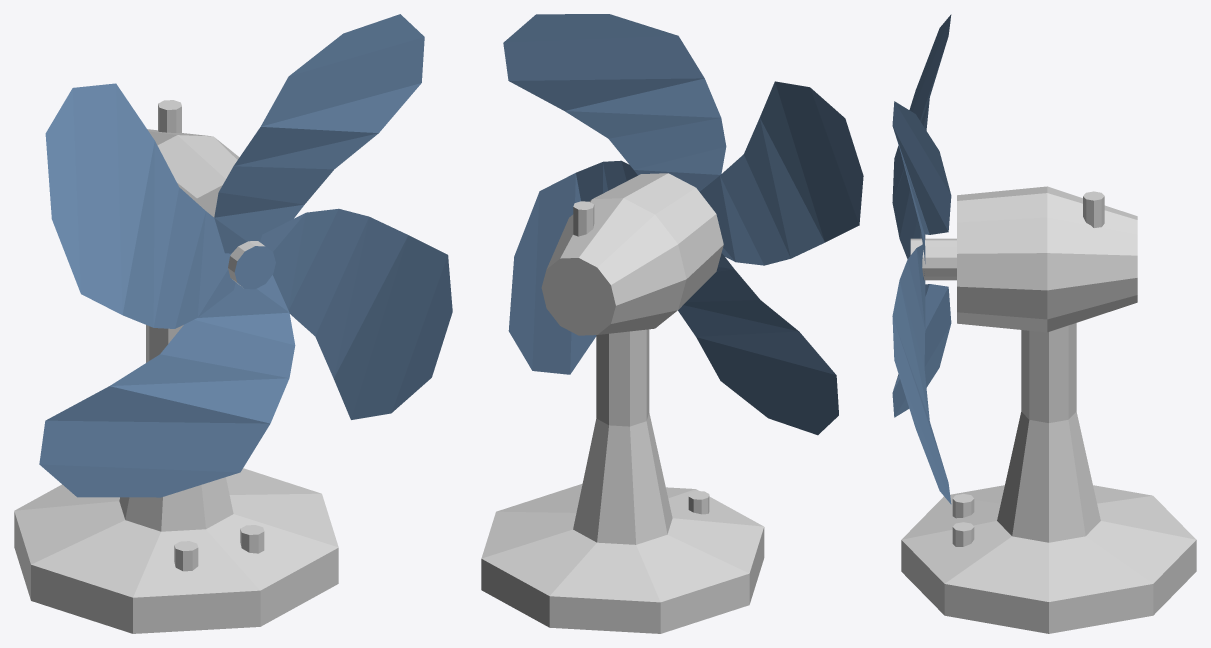
The model's file is Fan.fbx.
3 renders of one model, left to right at view 1: azimuth 30°, elevation 25°; view 2: azimuth 150°, elevation 25°; view 3: azimuth 270°, elevation 25°, orthographic. The views are drawn at different scales.
Parts seen in each view (by area): view 1: Desk_Fan.001, Desk_Fan; view 2: Desk_Fan.001, Desk_Fan; view 3: Desk_Fan, Desk_Fan.001.
Boxes of the visible parts, x1=… form: Desk_Fan.001: x1=39, y1=14, x2=452, y2=497; Desk_Fan: x1=14, y1=100, x2=338, y2=633; Desk_Fan.001: x1=503, y1=14, x2=863, y2=435; Desk_Fan: x1=481, y1=173, x2=764, y2=633; Desk_Fan: x1=901, y1=186, x2=1196, y2=633; Desk_Fan.001: x1=892, y1=14, x2=951, y2=504.
Size of the model in its own units: 202 by 272 by 151.
